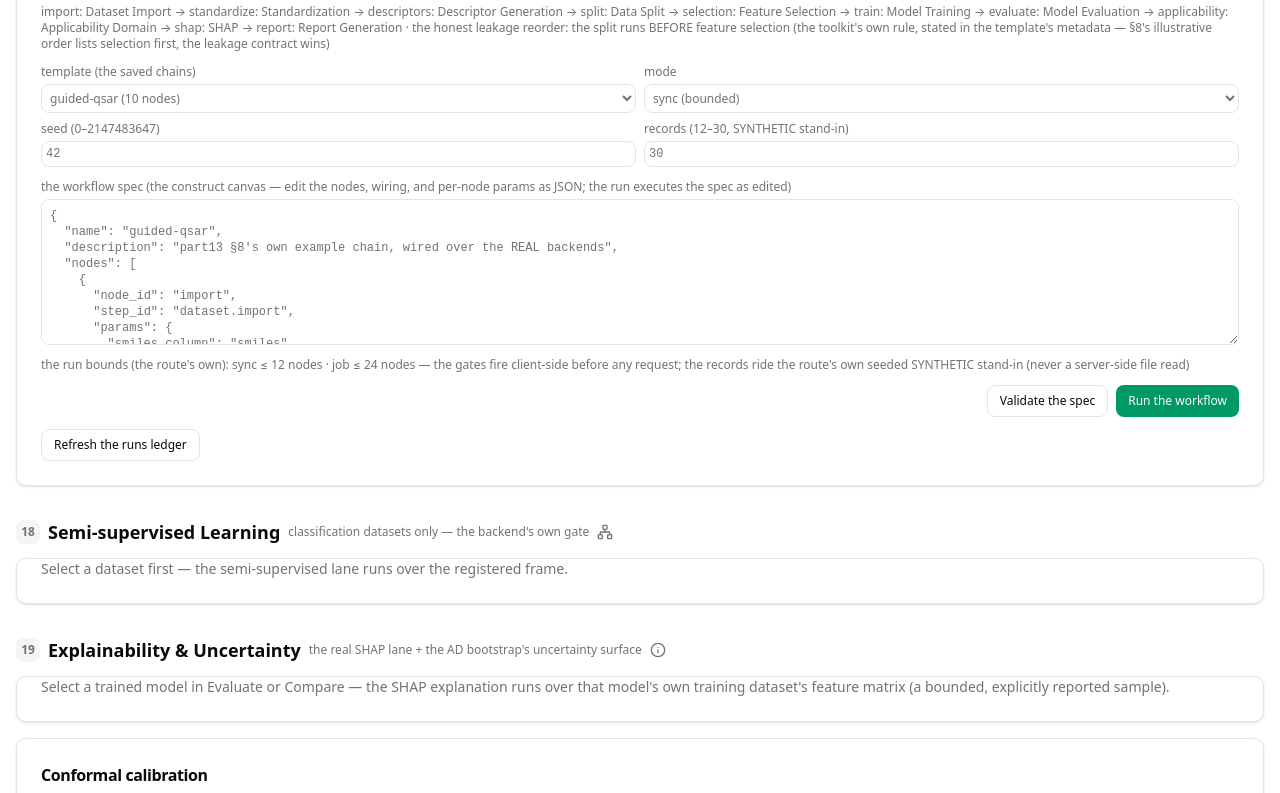
Test: the §8 Workflow Builder lane of the Machine Learning workspace › surfaces the backend's own hard 422 verbatim through the banner
(page scrolled)
Click the button "Run the workflow". click: point(1178, 401)
box: [1116,385,1239,417]
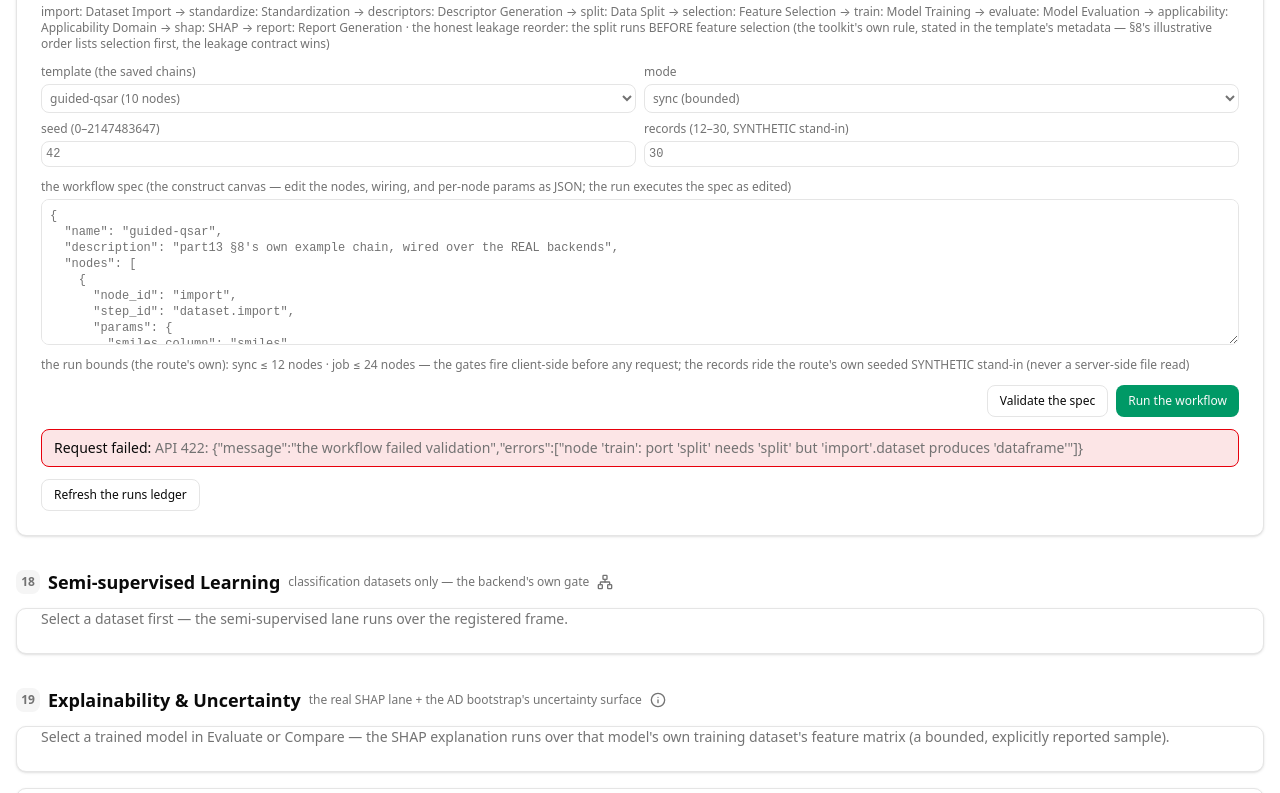
Check: the text "port 'split' needs 'split' but 'import'.dataset produces 'dataframe'" is shown, box [155,438,1083,457]
